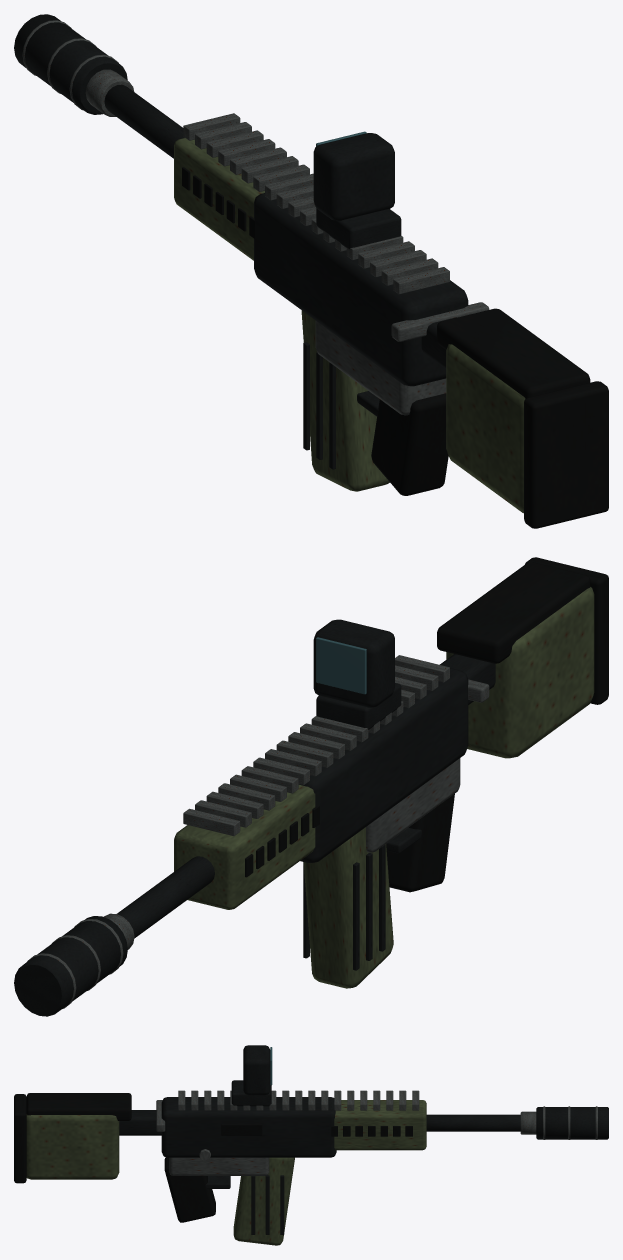
The model's file is rifle.glb.
3 views of the same model, one above another, from view 1: azimuth 30°, elevation 25°; view 2: azimuth 150°, elevation 25°; view 3: azimuth 270°, elevation 25° (orthographic). The views are drawn at different scales.
Visible parts, largest first — view 1: body_rubber, body_darksteel, body_olive, body_steel, optic_darksteel, suppressor_darksteel, suppressor_steel; view 2: body_olive, body_darksteel, body_rubber, body_steel, suppressor_darksteel, optic_darksteel, optic_glass, suppressor_steel; view 3: body_olive, body_darksteel, body_rubber, body_steel, suppressor_darksteel, optic_darksteel, suppressor_steel.
Part boxes in pixels (x1,y1,x2,y2): body_rubber: (182, 167, 608, 528); body_darksteel: (104, 84, 468, 469); body_olive: (174, 138, 525, 513); body_steel: (85, 69, 489, 415); optic_darksteel: (313, 133, 401, 248); suppressor_darksteel: (14, 14, 127, 114); suppressor_steel: (22, 20, 118, 110); body_olive: (174, 587, 594, 988); body_darksteel: (117, 654, 495, 970); body_rubber: (245, 557, 608, 892); body_steel: (104, 655, 489, 949); suppressor_darksteel: (14, 916, 127, 1016); optic_darksteel: (313, 619, 401, 729); optic_glass: (316, 637, 366, 694); suppressor_steel: (27, 919, 123, 1008); body_olive: (26, 1100, 426, 1245); body_darksteel: (119, 1097, 520, 1234); body_rubber: (14, 1093, 412, 1222); body_steel: (156, 1090, 536, 1175); suppressor_darksteel: (536, 1107, 608, 1139); optic_darksteel: (231, 1045, 271, 1106); suppressor_steel: (543, 1106, 597, 1139).
Bounding box in the file's own units: 0.118 × 0.4186 × 1.19.
Materials: 5 (4 with a texture image).
